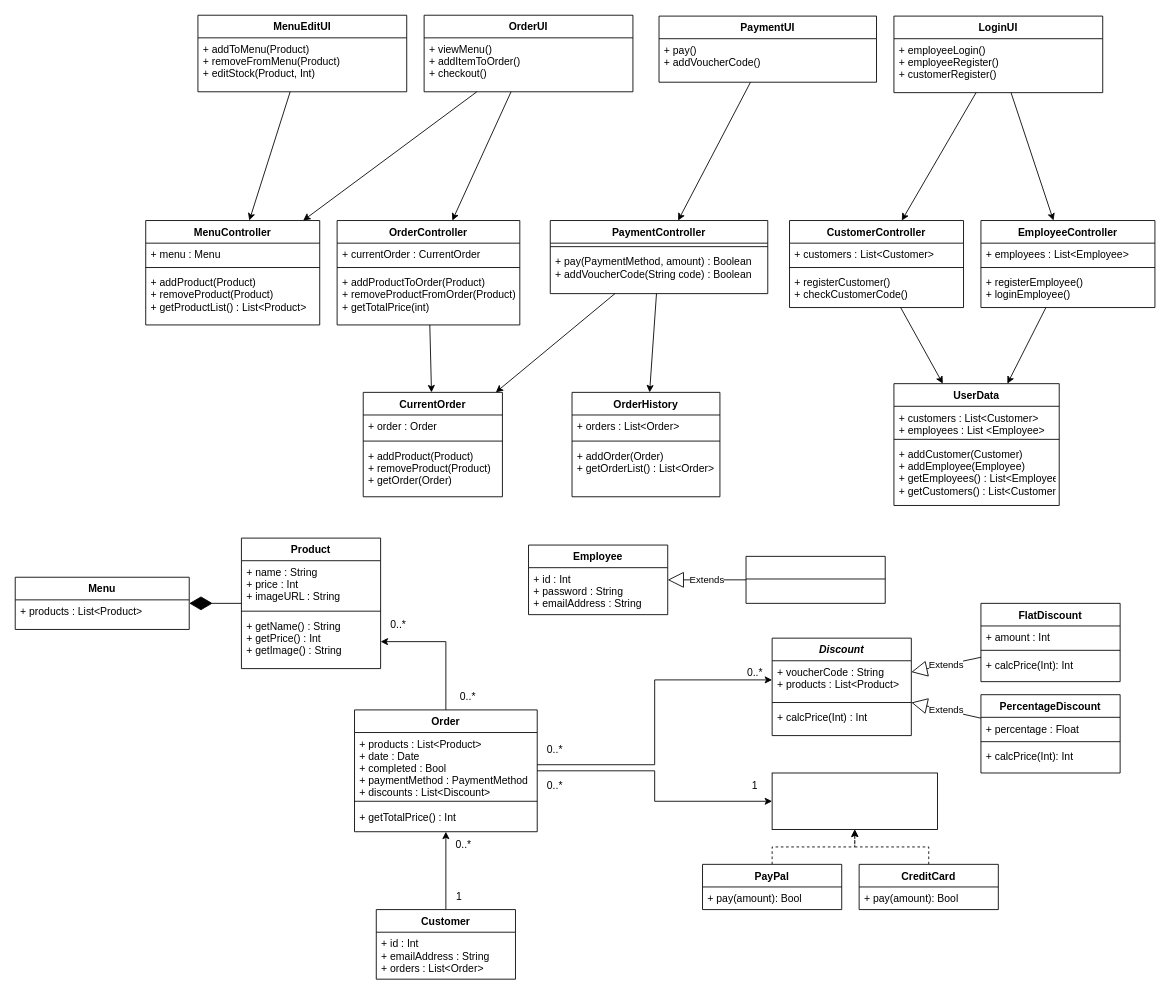
This 1170x997 diagram has some shape labels left out. The centre of each missing label's shape, as x and y in pixels:
<<Interface>> PaymentMethod + pay(amount): Bool: (854,801)
Admin: (815,579)
